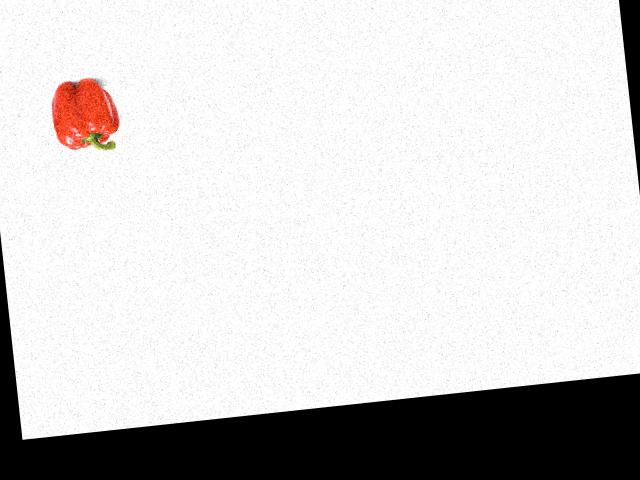bell_pepper: (47, 74, 123, 157)
